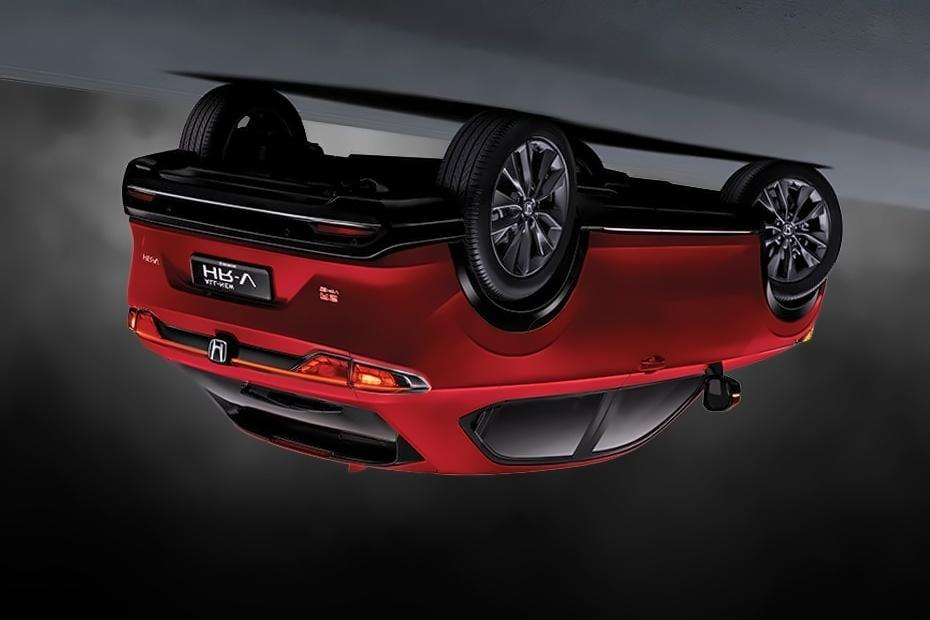Car boot: (109, 258, 428, 477)
Fender - -F-L-: (750, 214, 829, 367)
Fender - -R-L-: (394, 225, 586, 398)
Passenger-s door - -F-L-: (572, 233, 762, 474)
Rear bumper: (119, 151, 467, 305)
Rear light - -L-: (288, 340, 436, 402)
Rear light - -R-: (109, 297, 173, 359)
Side bumper - -L-: (564, 191, 771, 255)
Side mirror - -L-: (683, 354, 747, 423)
